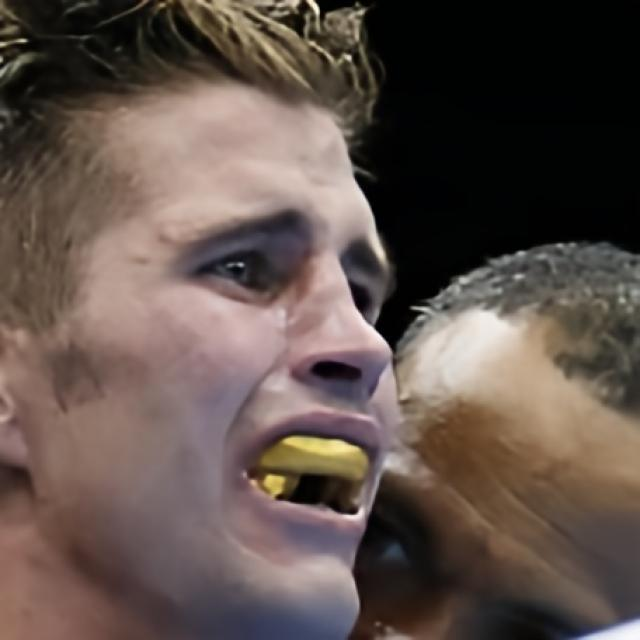fear: (28, 57, 399, 640)
